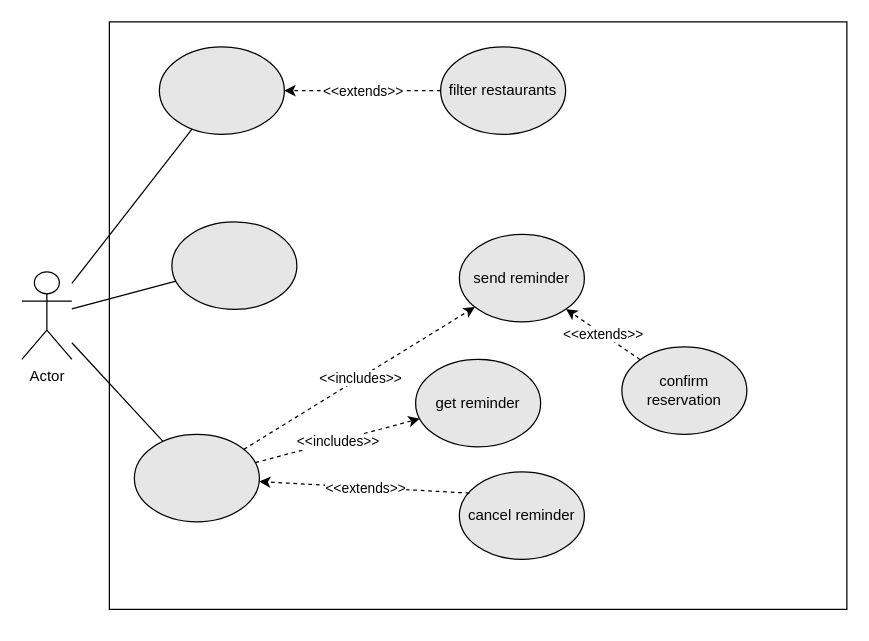
This 869x641 diagram has some shape labels left out. Here are the shapes that lost their labels. From the top down, the centre of each, then its label:
(221,90): search restaurants
(234,265): see details
(196,477): reserve table
